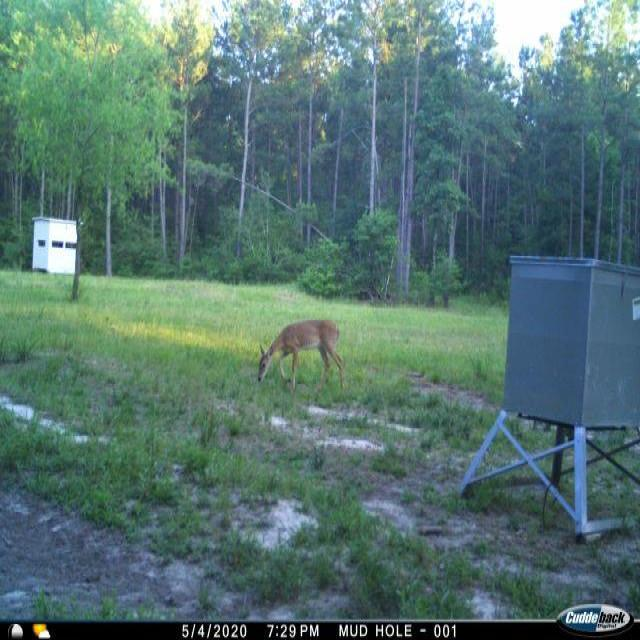deer: (255, 317, 352, 395)
